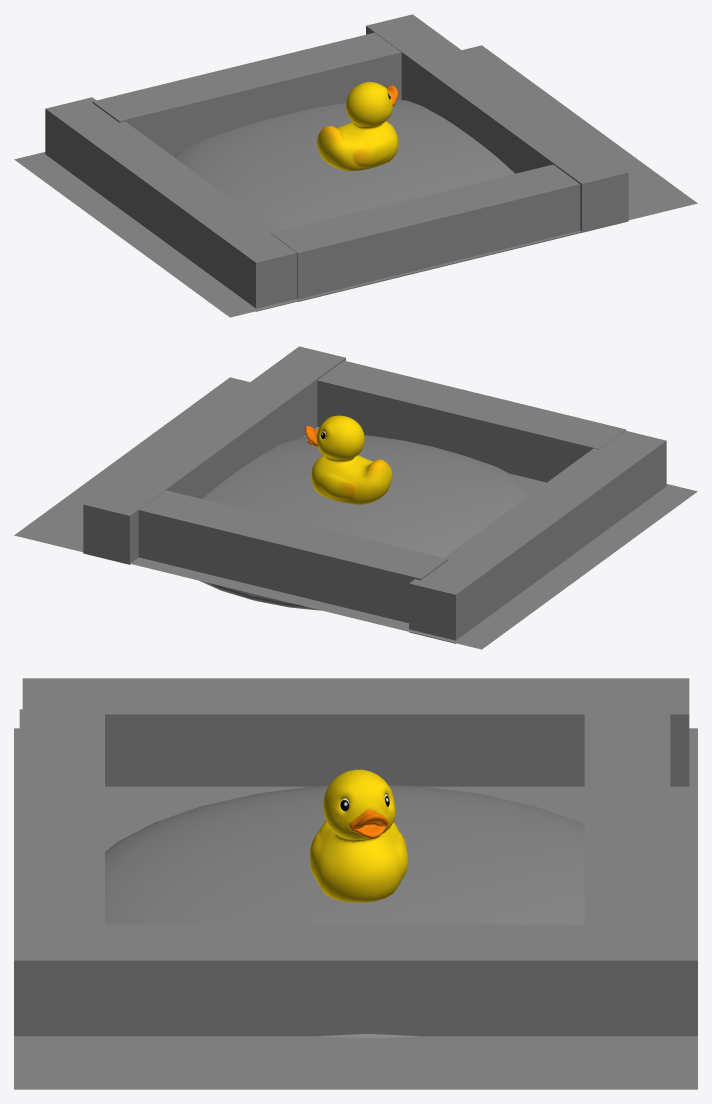
3 views of the same model, one above another, from view 1: azimuth 30°, elevation 25°; view 2: azimuth 150°, elevation 25°; view 3: azimuth 270°, elevation 25° (orthographic). The views are drawn at different scales.
Parts seen in each view (by area): view 1: sphere_h5ay, box_jzs5, box_lehc, box_kyrt, box_kqdv, plane_hl9o, LOD3spShape; view 2: box_lehc, sphere_h5ay, box_kqdv, box_jzs5, box_kyrt, plane_hl9o, LOD3spShape; view 3: box_kyrt, box_lehc, sphere_h5ay, plane_hl9o, box_kqdv, box_jzs5, LOD3spShape.
Boxes of the visible parts, x1=… form: sphere_h5ay: x1=173, y1=99, x2=514, y2=231; box_jzs5: x1=271, y1=164, x2=581, y2=301; box_lehc: x1=45, y1=97, x2=297, y2=311; box_kyrt: x1=366, y1=14, x2=628, y2=232; box_kqdv: x1=92, y1=32, x2=401, y2=155; plane_hl9o: x1=14, y1=45, x2=697, y2=317; LOD3spShape: x1=317, y1=82, x2=398, y2=171; box_lehc: x1=409, y1=430, x2=666, y2=643; sphere_h5ay: x1=199, y1=435, x2=530, y2=610; box_kqdv: x1=138, y1=490, x2=447, y2=623; box_jzs5: x1=317, y1=360, x2=626, y2=482; box_kyrt: x1=83, y1=346, x2=345, y2=564; plane_hl9o: x1=14, y1=377, x2=697, y2=649; LOD3spShape: x1=305, y1=415, x2=392, y2=504; box_kyrt: x1=14, y1=924, x2=697, y2=1036; box_lehc: x1=22, y1=678, x2=689, y2=786; sphere_h5ay: x1=105, y1=785, x2=584, y2=1038; plane_hl9o: x1=14, y1=728, x2=697, y2=1089; box_kqdv: x1=584, y1=707, x2=670, y2=924; box_jzs5: x1=19, y1=709, x2=104, y2=924; LOD3spShape: x1=310, y1=769, x2=408, y2=902.
Size of the model in its own units: 10 by 2.66 by 8.
7 materials, 1 textured.
